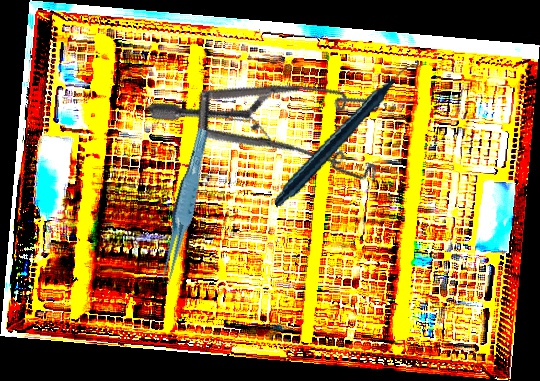Handpiece: (255, 64, 439, 207)
Speculum: (147, 27, 408, 247)
Tissue Forceps: (148, 127, 220, 286)
